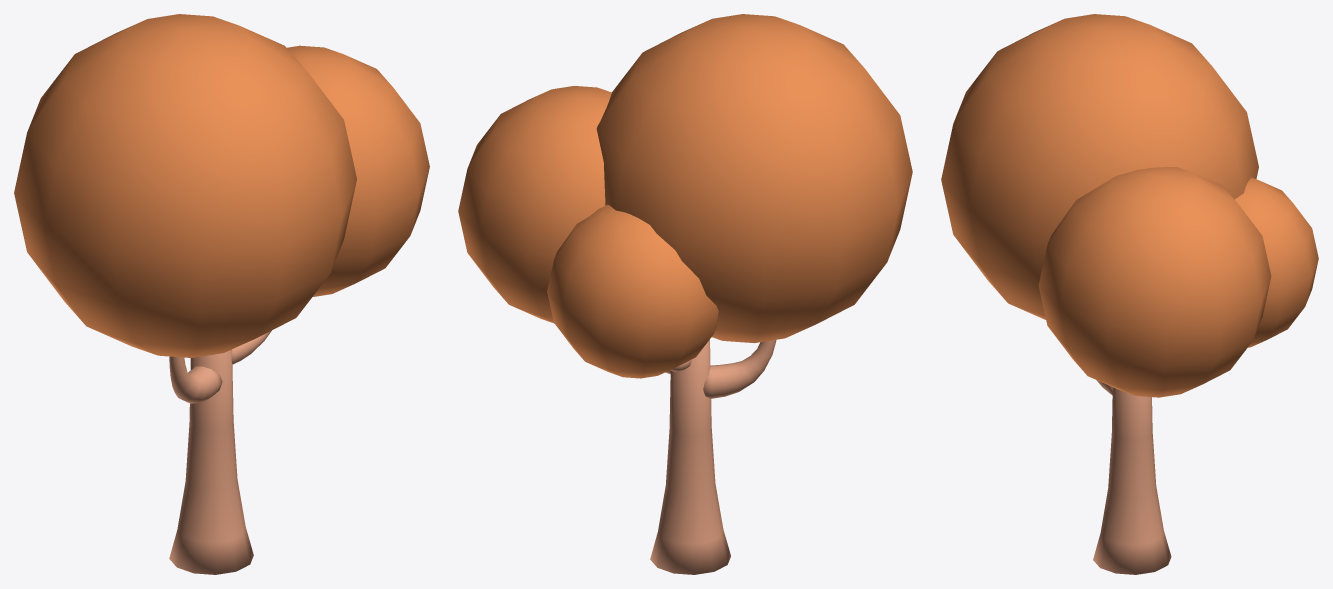
File: Tree.glb
The picture shows the model from 3 angles, left to right: view 1: azimuth 30°, elevation 25°; view 2: azimuth 150°, elevation 25°; view 3: azimuth 270°, elevation 25°; orthographic projection. The views are drawn at different scales.
Visible parts, largest first — view 1: tree03; view 2: tree03; view 3: tree03.
Part boxes in pixels (x1=…): tree03: x1=14, y1=14, x2=429, y2=574; tree03: x1=458, y1=14, x2=912, y2=574; tree03: x1=941, y1=14, x2=1318, y2=574.
Bounding box in the file's own units: 2.72 × 3.52 × 2.37.
